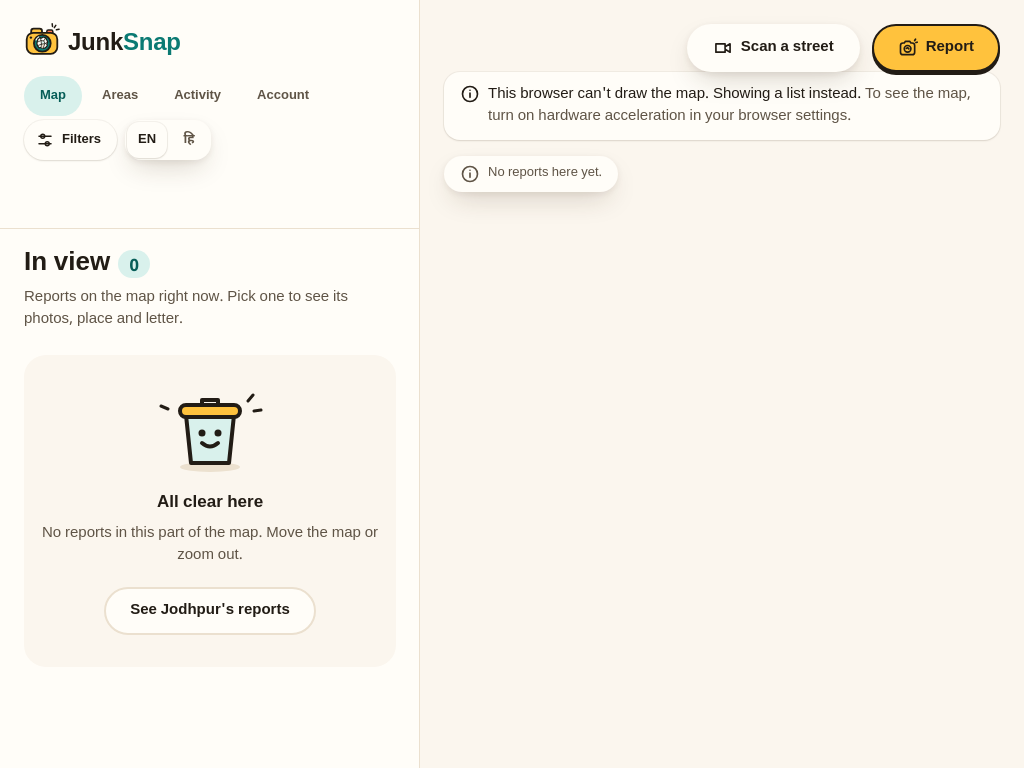
Test: map list mode language › keeps the language toggle beside Filters, since the search field is hidden
The image size is (1024, 768).
Click the button named "हिन्दी" at [189, 140], box [169,122,209,158]
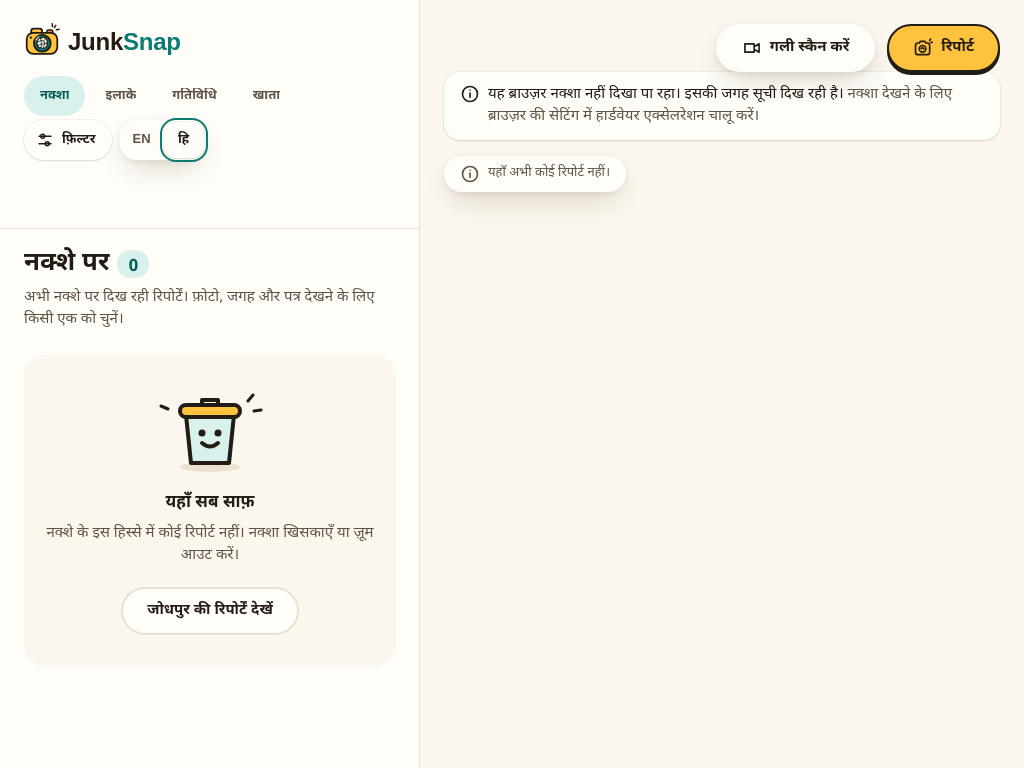
Expected: the button with aria-label "English" is shown, [122,122,162,158]
Expected: the text "यह ब्राउज़र नक्शा नहीं दिखा पा रहा" is shown, [488,85,844,104]
